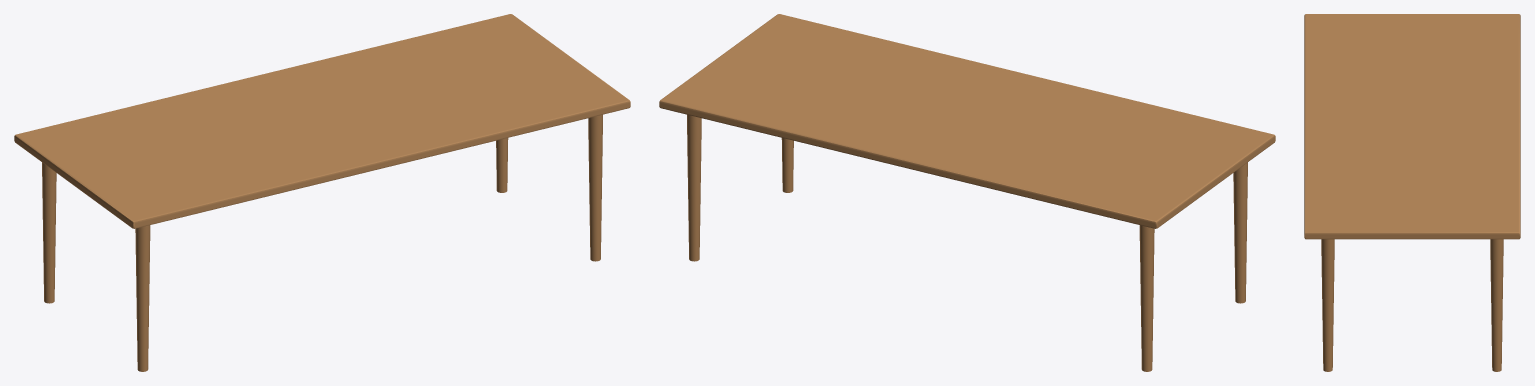
Rendered from table-dining-8.glb.
The picture shows the model from 3 angles, left to right: view 1: azimuth 30°, elevation 25°; view 2: azimuth 150°, elevation 25°; view 3: azimuth 270°, elevation 25°; orthographic projection. The views are drawn at different scales.
Visible parts, largest first — view 1: table-dining-8; view 2: table-dining-8; view 3: table-dining-8.
Part boxes in pixels (bbox=[...]): table-dining-8: bbox=[14, 14, 630, 371]; table-dining-8: bbox=[659, 14, 1275, 371]; table-dining-8: bbox=[1304, 14, 1520, 371].
Bounding box in the file's own units: 2.4 × 0.75 × 1.
